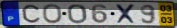6: (90, 3, 108, 24)
9: (139, 4, 157, 25)
C: (21, 4, 41, 24)
O: (41, 4, 64, 25), (67, 3, 88, 24)
X: (115, 3, 138, 25)
